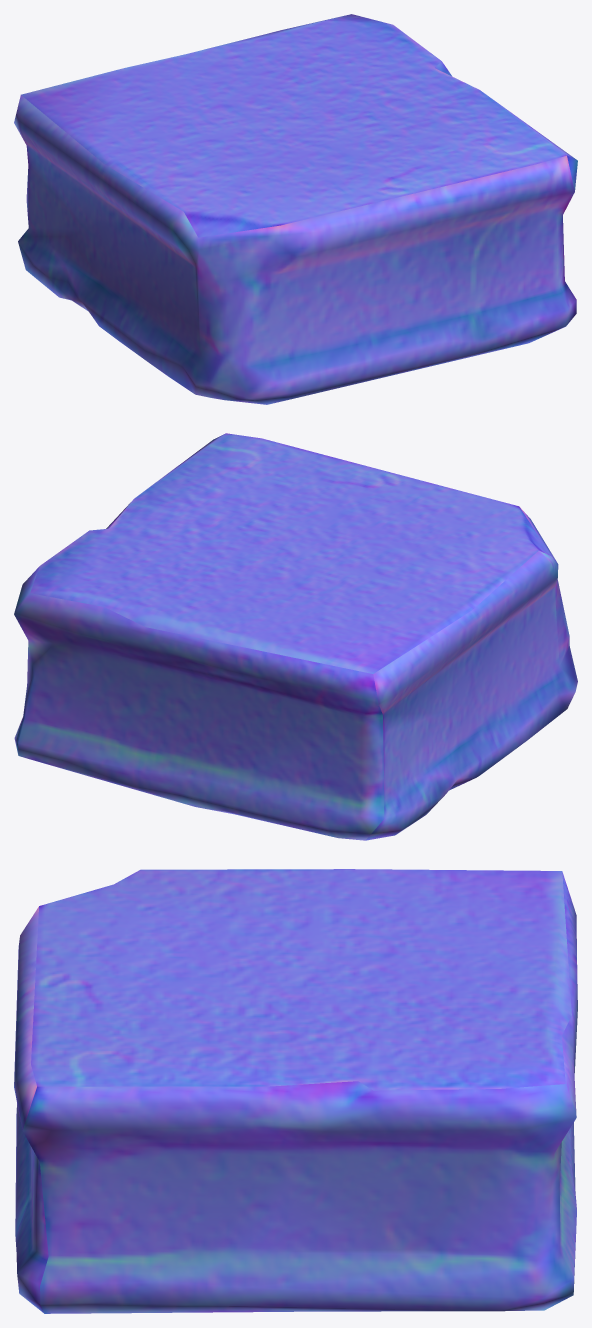
The model's file is pillar_top_02a.fbx.
The picture shows the model from 3 angles, top to bottom: view 1: azimuth 30°, elevation 25°; view 2: azimuth 150°, elevation 25°; view 3: azimuth 270°, elevation 25°; orthographic projection. The views are drawn at different scales.
Visible parts, largest first — view 1: pillar_top_02a_LOD0; view 2: pillar_top_02a_LOD0; view 3: pillar_top_02a_LOD0.
Boxes of the visible parts, left/top/right/bottom form: pillar_top_02a_LOD0: left=14, top=14, right=577, bottom=404; pillar_top_02a_LOD0: left=14, top=433, right=577, bottom=840; pillar_top_02a_LOD0: left=14, top=869, right=577, bottom=1313.
Size of the model in its own units: 34.63 by 35.17 by 16.
Materials: 1 (1 with a texture image).
